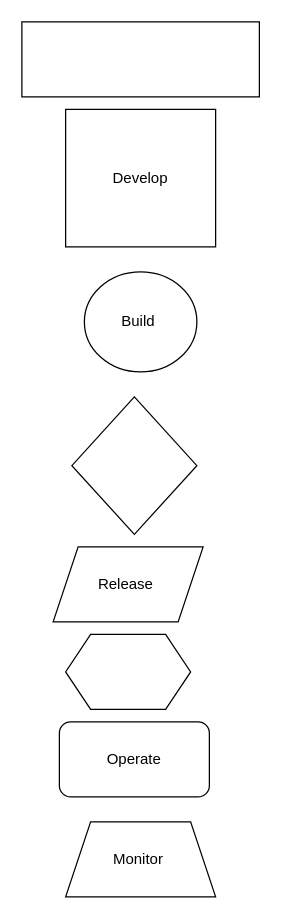
Image size: 281x919. Some labels were removed from this diagram. The shapes that lost their labels are listed below. From the top down, each one's box as (x1, y1, x2, y2) in pixels, then its label:
(21, 21, 259, 97): Plan
(71, 396, 197, 534): Test
(64, 633, 191, 709): Deployment
